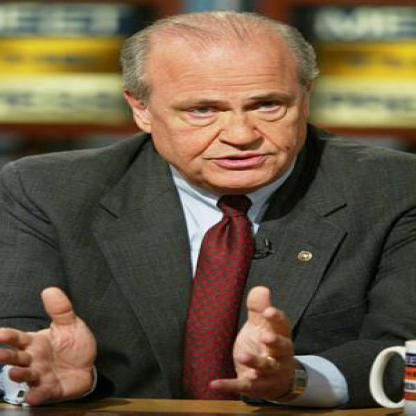face: (145, 23, 312, 193)
